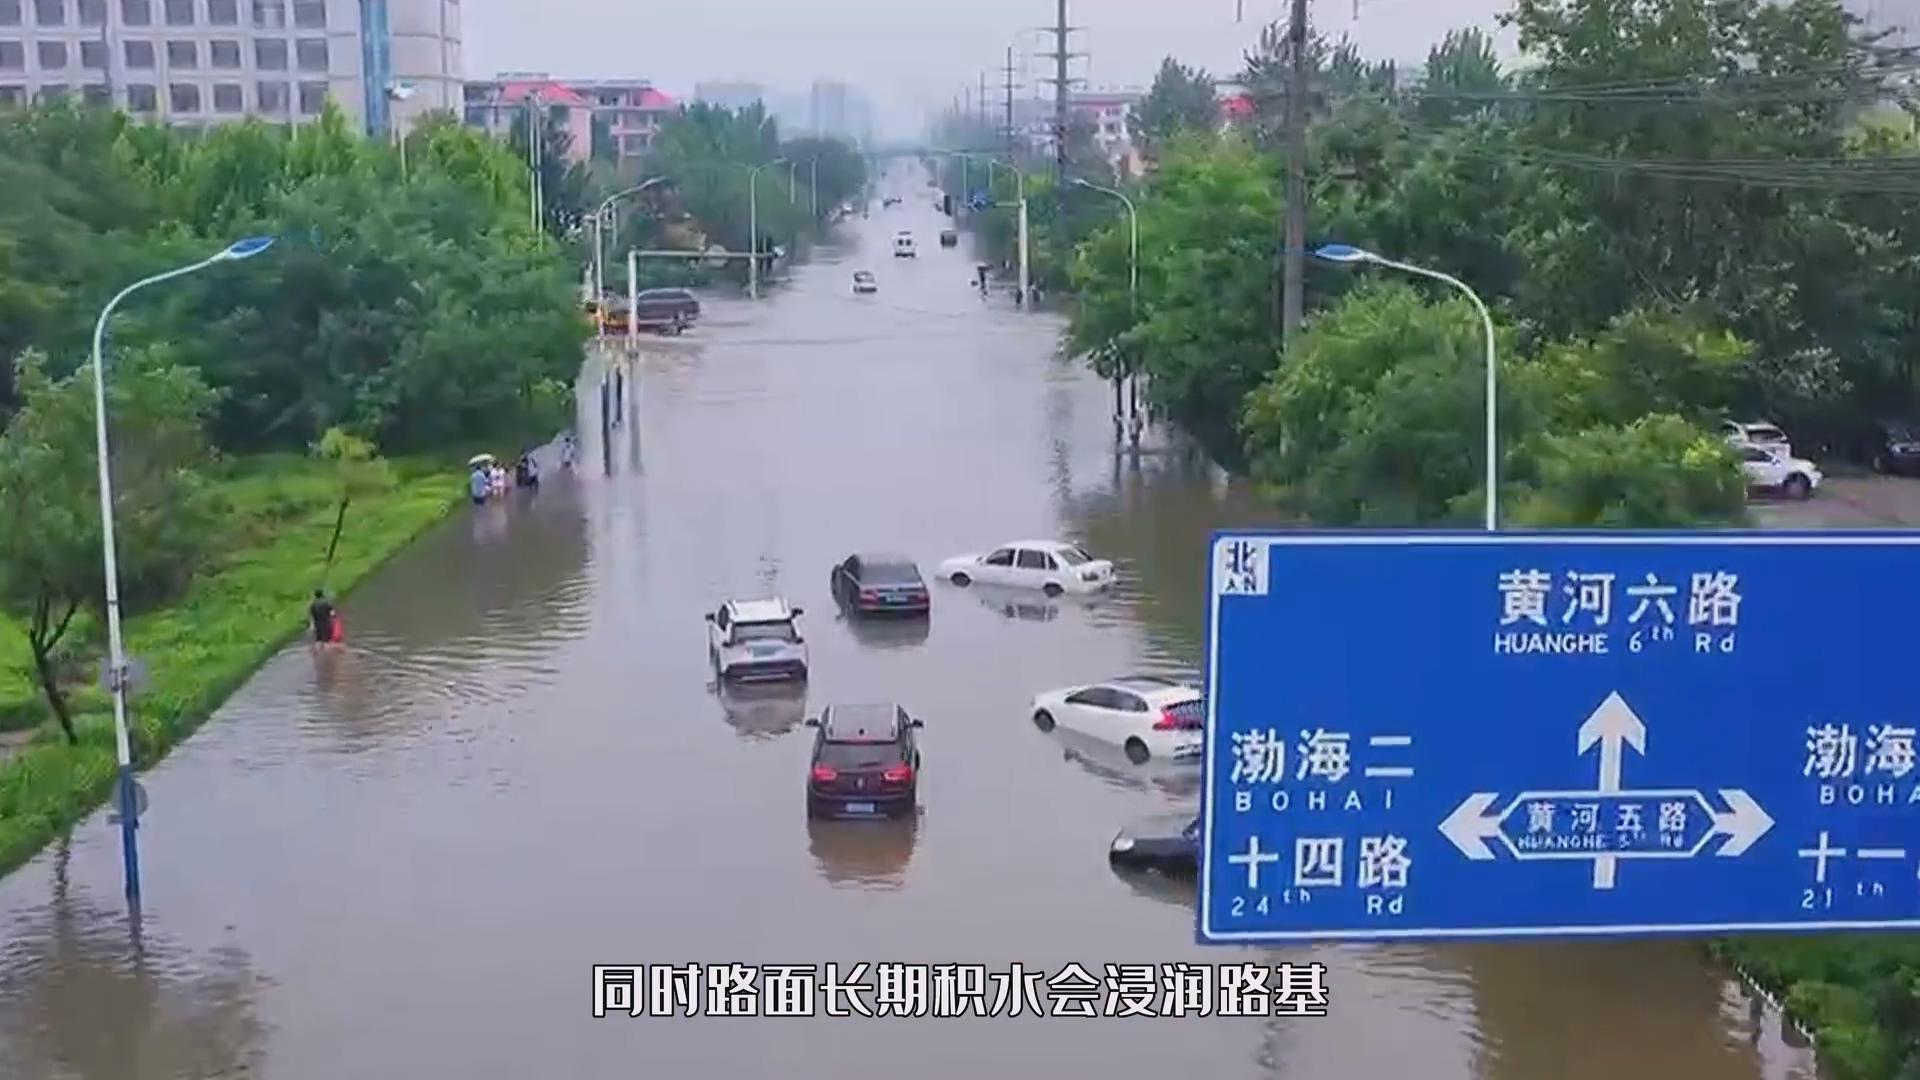puddle: (162, 429, 1203, 1080)
